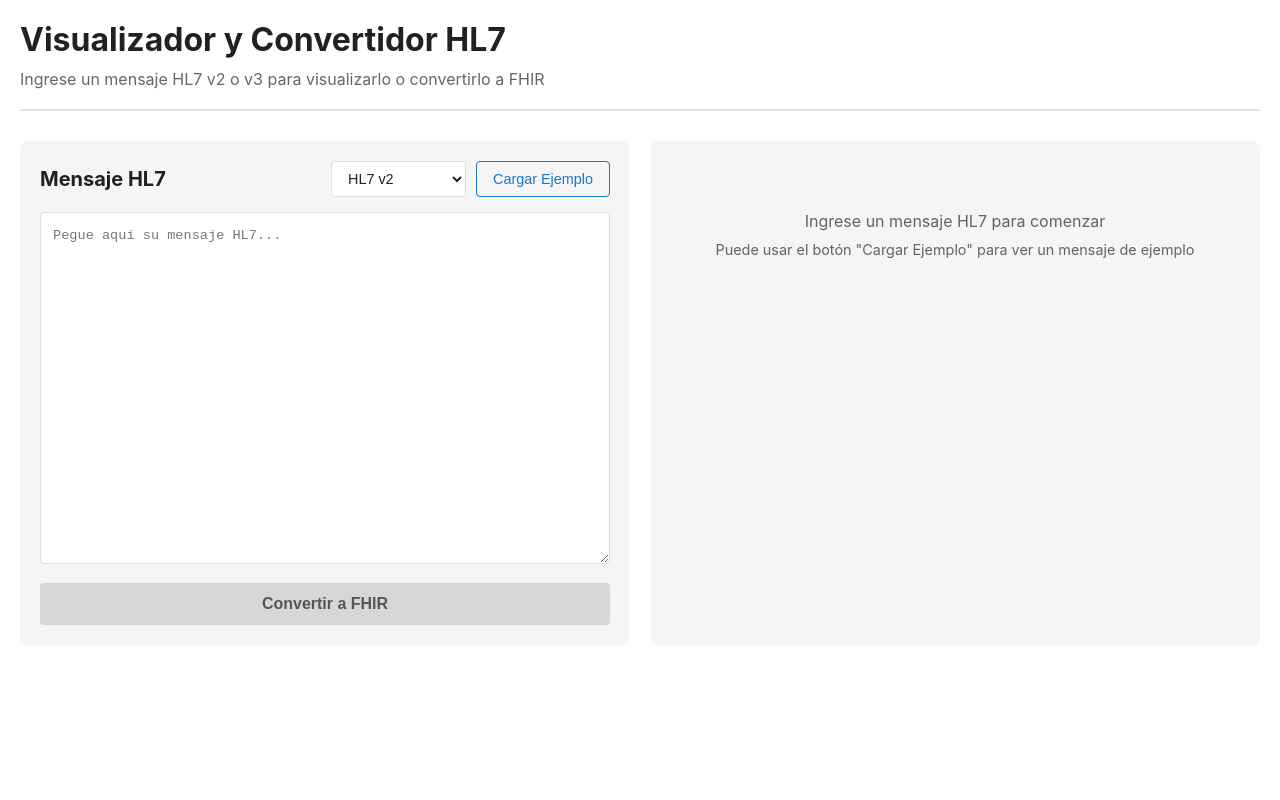
Hl7Page › shows loading text during conversion
In the text box with placeholder "Pegue aquí su mensaje HL7...": (325, 388) [40, 212, 610, 564], type "MSH|data"
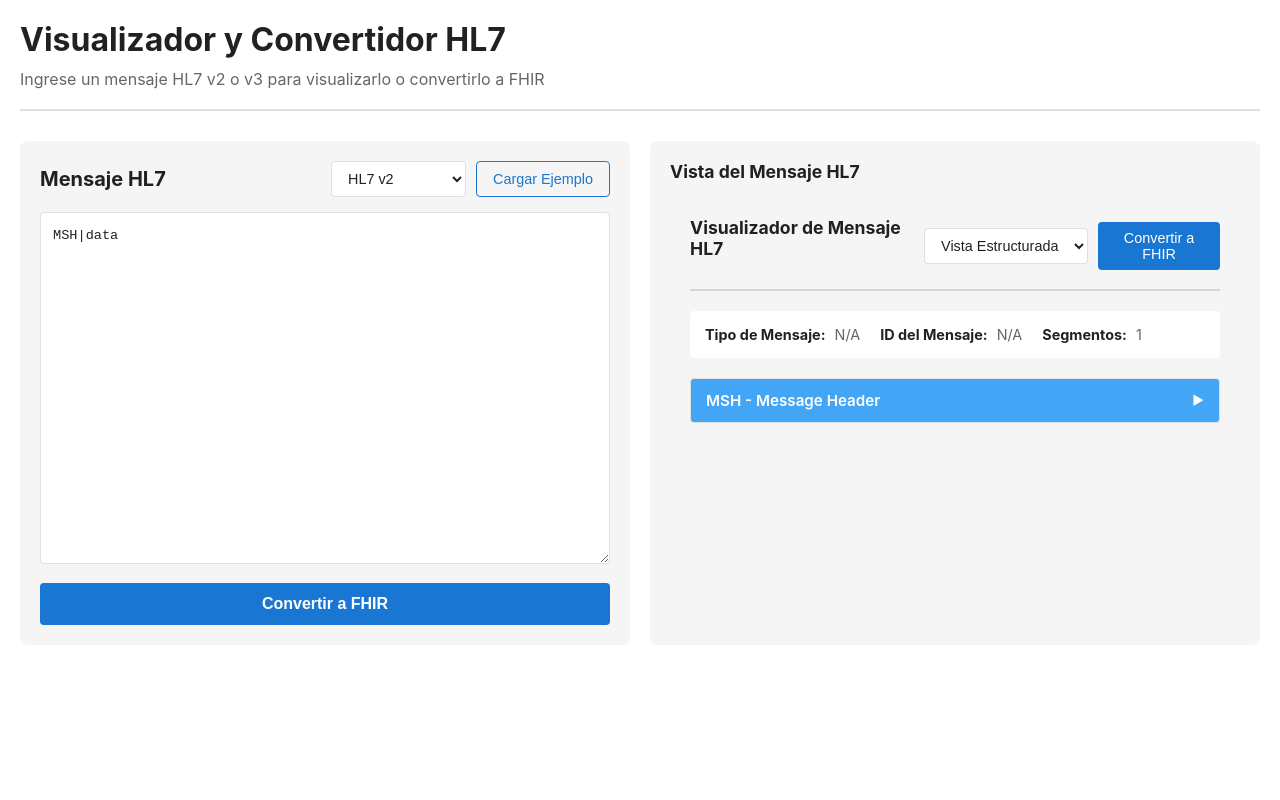
Click the button with class "hl7-convert-button": (325, 604) [40, 583, 610, 625]
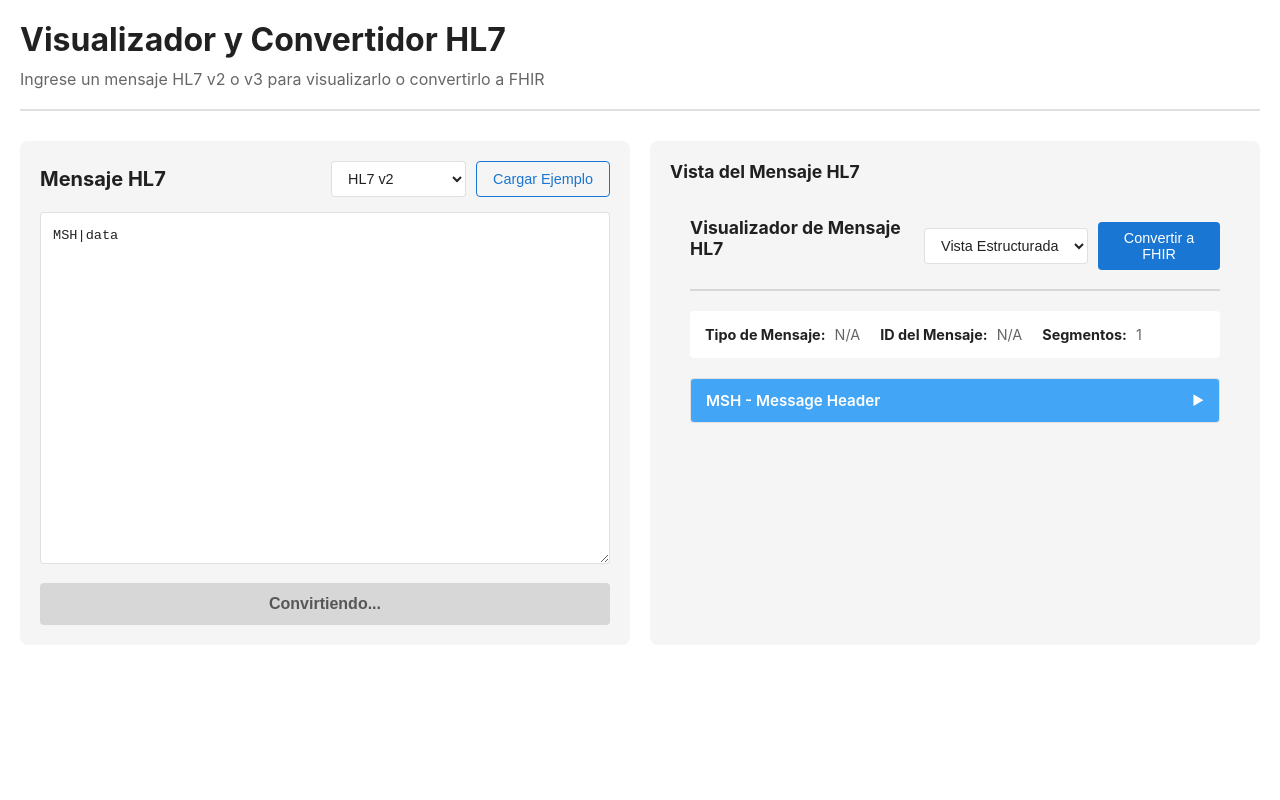
Expected: the button with class "hl7-convert-button" shows "Convirtiendo", [40, 583, 610, 625]
